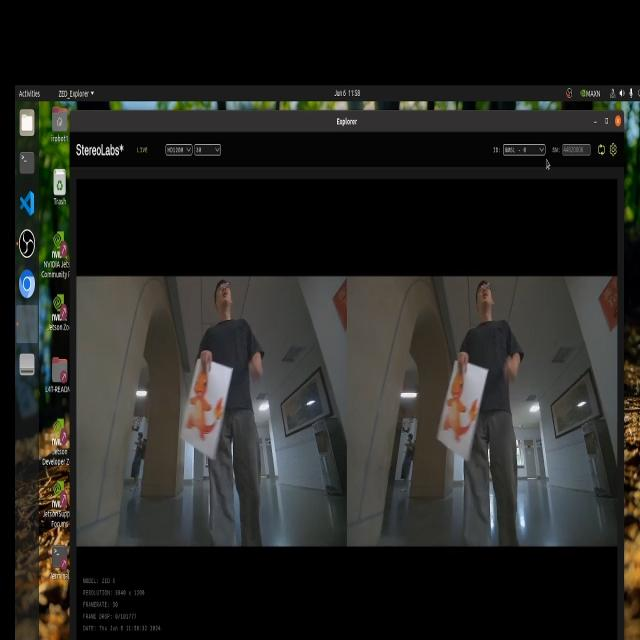red: (443, 366, 483, 444), (191, 358, 223, 444)
